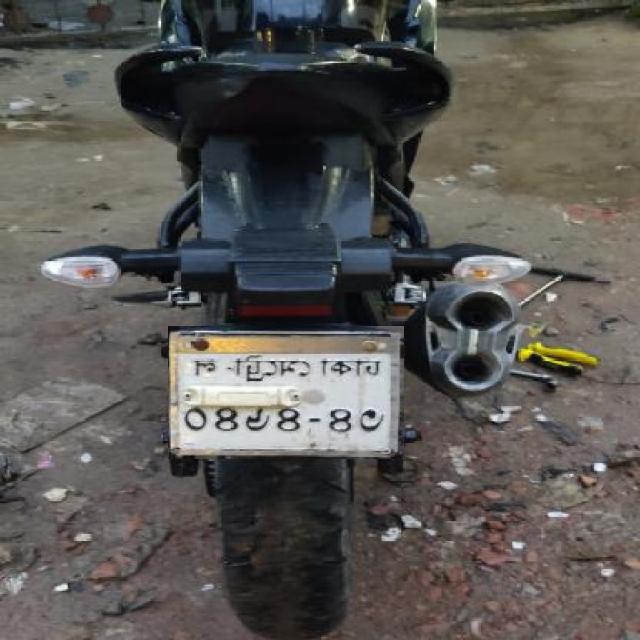numberplate: (168, 326, 404, 459)
